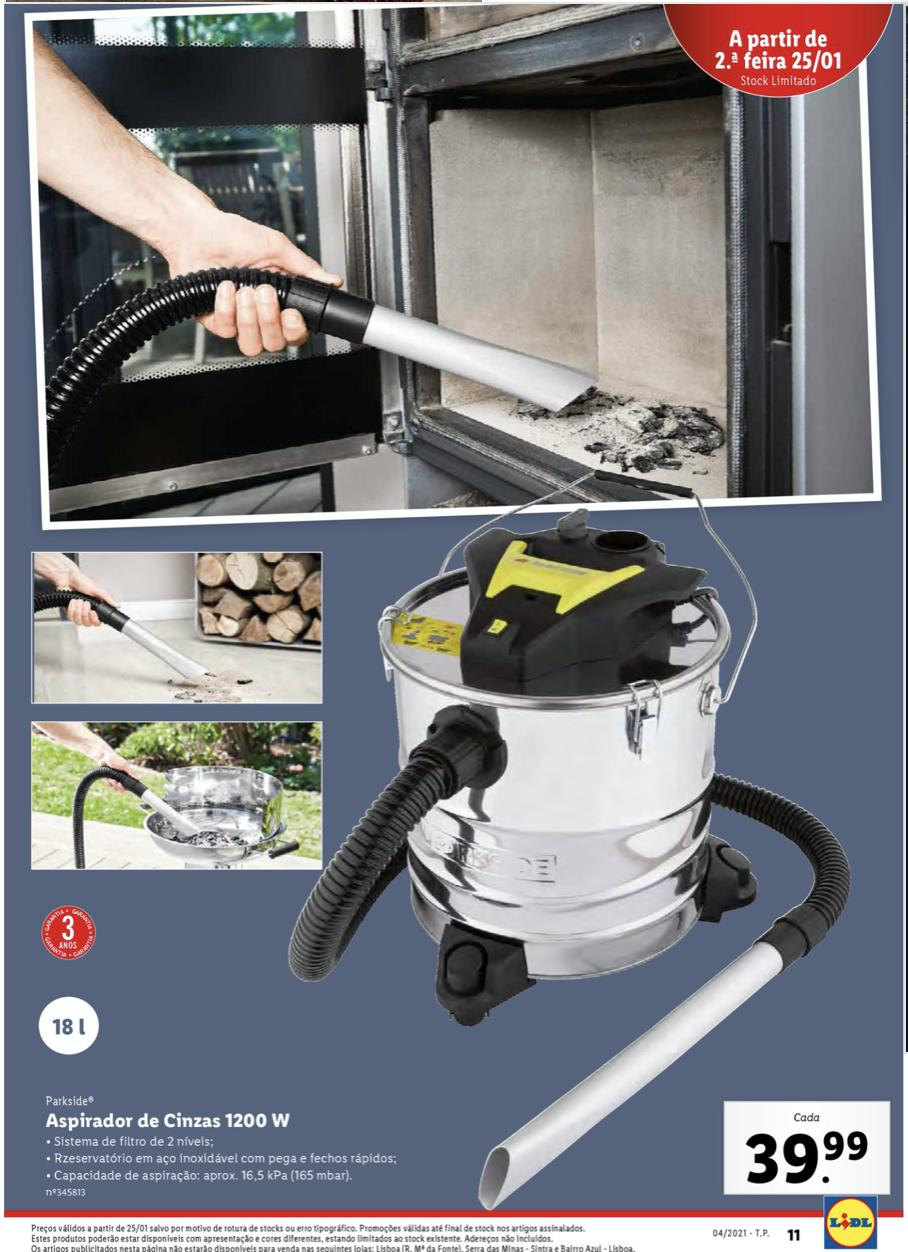name: (38, 1108, 296, 1134)
price: (739, 1128, 875, 1184)
product: (16, 156, 907, 1209)
